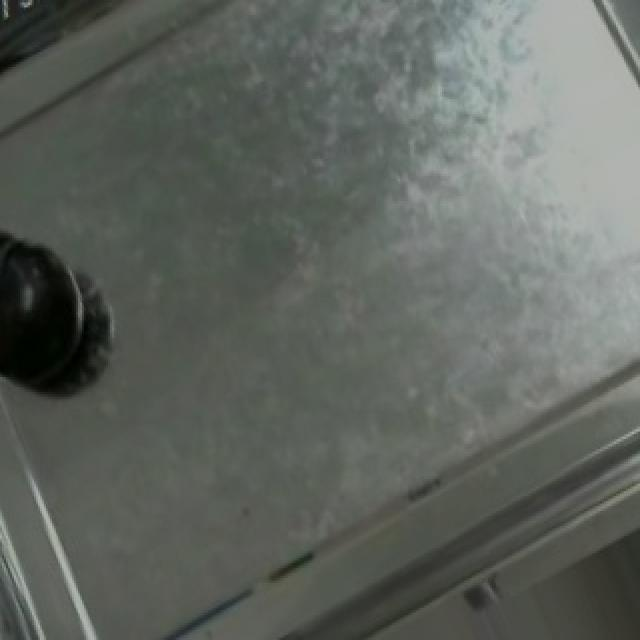Fruit: (0, 223, 106, 397)
